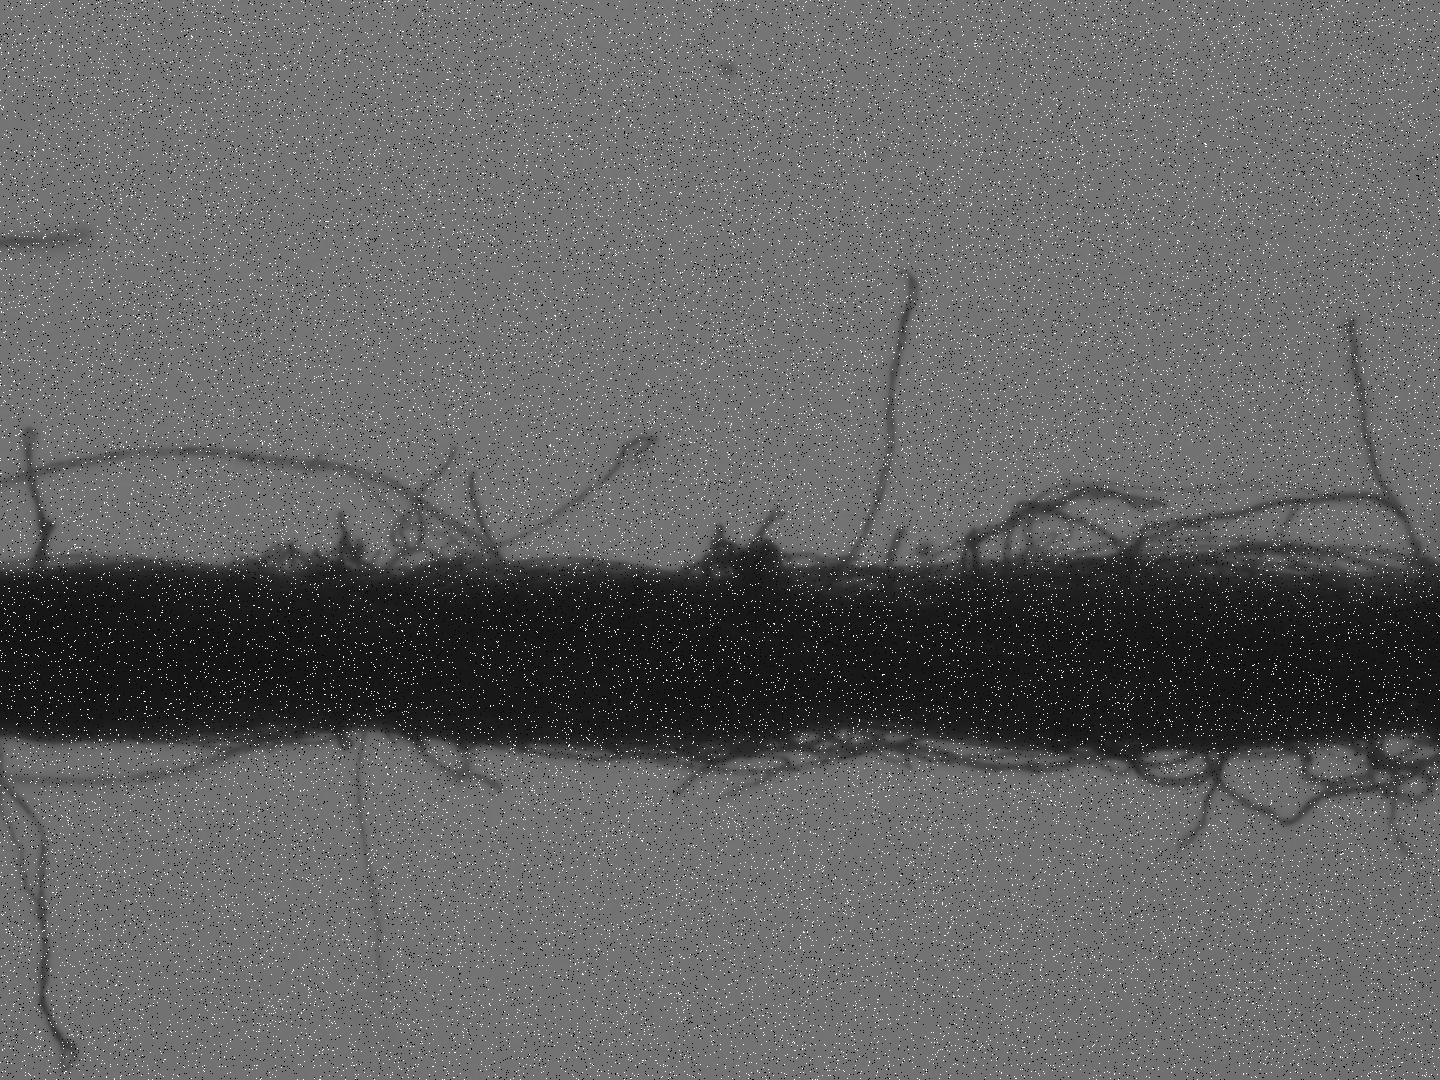loop_fiber: (1095, 491, 1418, 582), (1197, 741, 1437, 830), (609, 732, 915, 779), (1159, 540, 1414, 582), (999, 499, 1138, 569), (890, 733, 1117, 776), (1291, 737, 1414, 790), (671, 537, 794, 587), (1121, 744, 1235, 790), (248, 540, 351, 581), (305, 546, 395, 582), (738, 724, 839, 754), (249, 723, 341, 752), (379, 547, 449, 575), (225, 550, 279, 574), (958, 529, 981, 579), (882, 525, 904, 575)
protruding_fiber: (829, 264, 916, 576), (1344, 318, 1426, 566), (353, 728, 384, 985), (1177, 746, 1228, 853), (22, 424, 51, 572), (463, 472, 507, 568)
